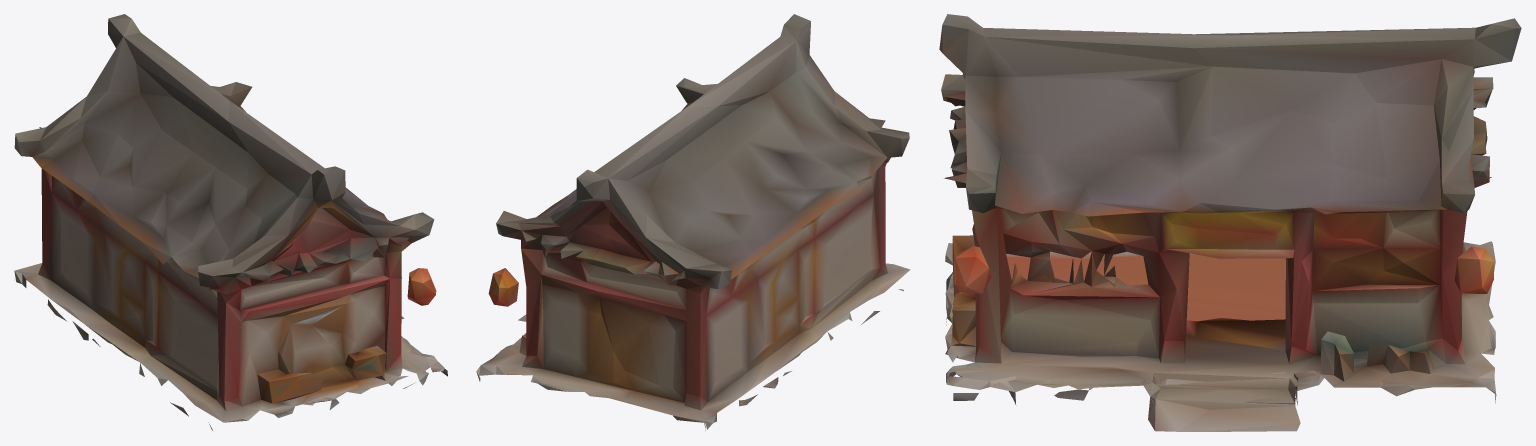
The model's file is bq_teashop.vc2.glb.
The picture shows the model from 3 angles, left to right: view 1: azimuth 30°, elevation 25°; view 2: azimuth 150°, elevation 25°; view 3: azimuth 270°, elevation 25°; orthographic projection. The views are drawn at different scales.
Parts seen in each view (by area): view 1: bq_teashop; view 2: bq_teashop; view 3: bq_teashop.
Boxes of the visible parts, x1,y1,x2,y2 form: bq_teashop: [14, 14, 447, 430]; bq_teashop: [476, 14, 910, 430]; bq_teashop: [939, 14, 1521, 431].
Size of the model in its own units: 1.41 by 1.2 by 1.99.
